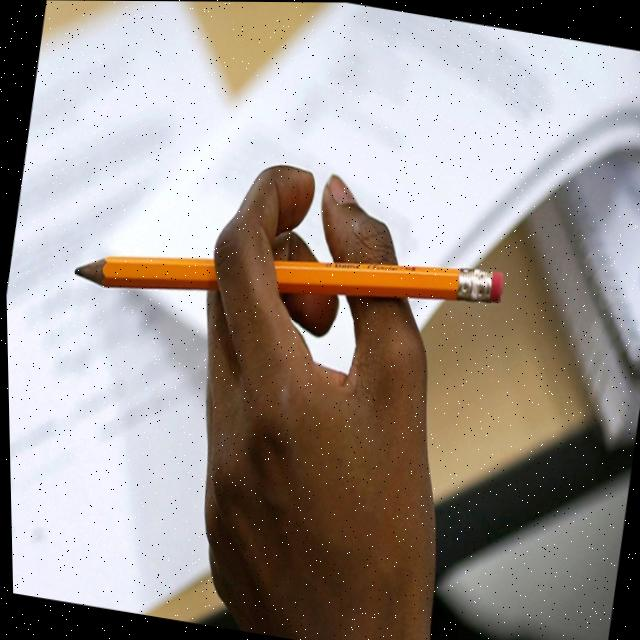pencil: (59, 246, 508, 307)
